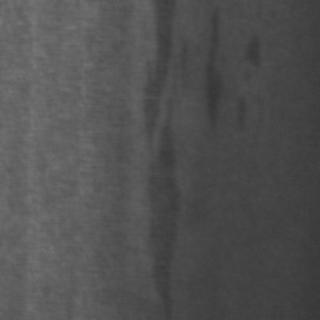inclusion: (134, 0, 184, 312), (192, 2, 228, 138), (234, 28, 266, 78)
